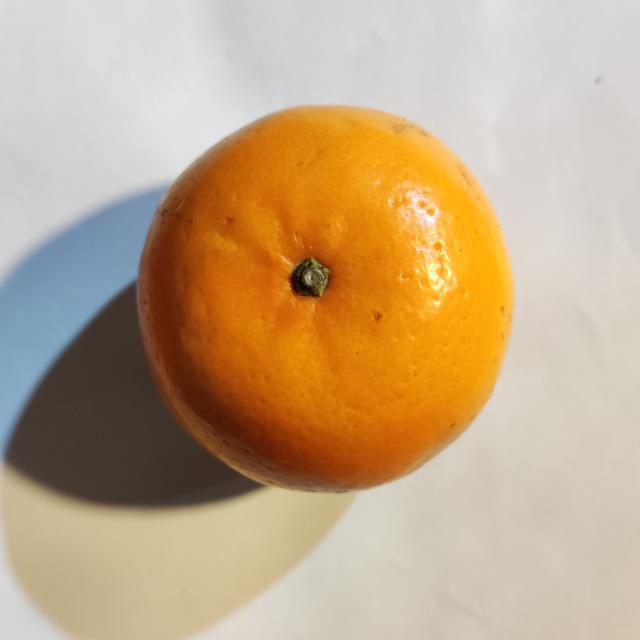orange: (139, 107, 513, 490)
